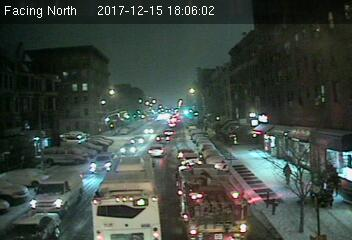bus: (91, 155, 163, 240)
car: (2, 210, 60, 240), (89, 153, 112, 172), (147, 144, 166, 159), (119, 143, 138, 154), (127, 135, 146, 146), (154, 133, 171, 142)
pedestrian: (283, 163, 292, 186)
truck: (29, 170, 83, 214)
